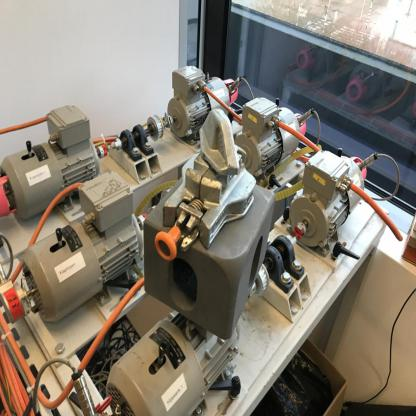CornerCasting: (139, 179, 275, 340)
Twistlock: (151, 104, 258, 260)
